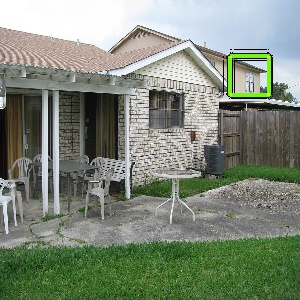square: (224, 49, 276, 102)
